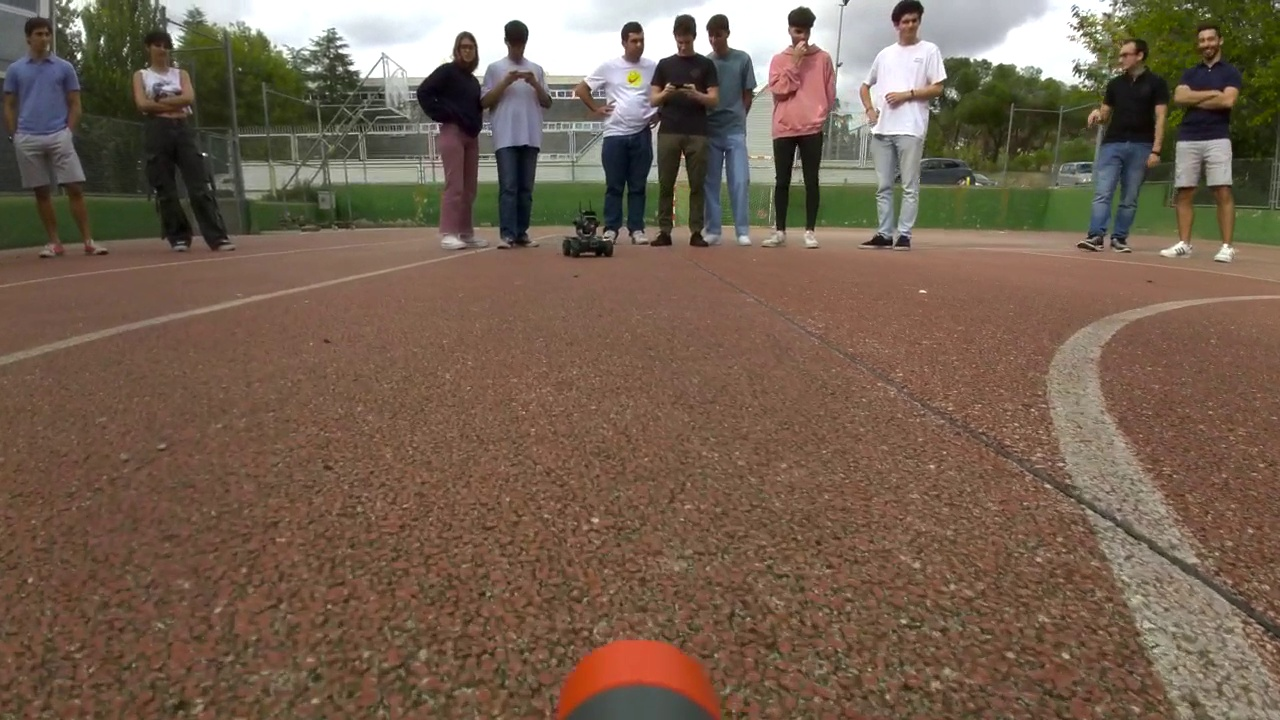robot: (564, 213, 614, 256)
